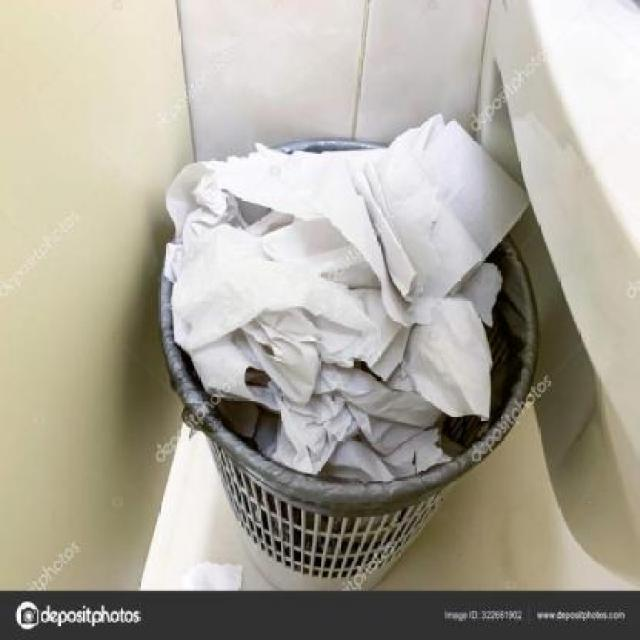garbage: (177, 151, 488, 462)
